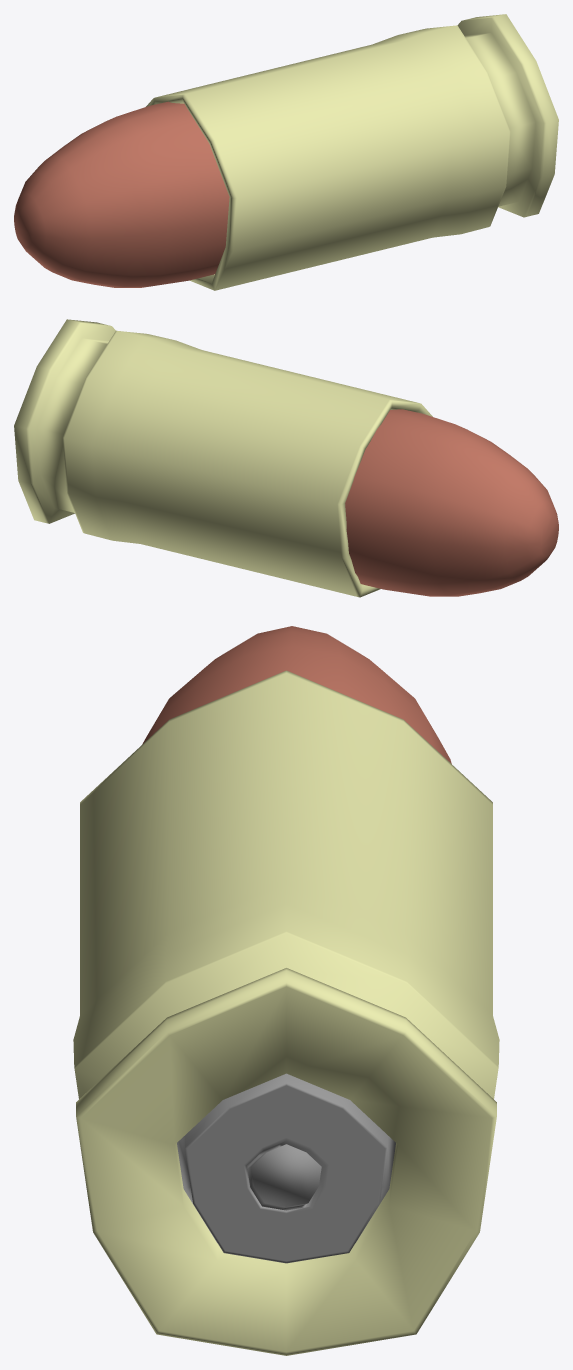
File: BulletPistol.fbx
3 views of the same model, one above another, from view 1: azimuth 30°, elevation 25°; view 2: azimuth 150°, elevation 25°; view 3: azimuth 270°, elevation 25° (orthographic). The views are drawn at different scales.
Parts seen in each view (by area): view 1: Case, Bullet; view 2: Case, Bullet; view 3: Case, Bullet.
Boxes of the visible parts, x1,y1,x2,y2 form: Case: (146,14,558,290); Bullet: (14,101,229,287); Case: (14,319,432,597); Bullet: (345,409,558,596); Case: (73,670,499,1355); Bullet: (142,626,451,763).
Size of the model in its own units: 10.44 by 3.92 by 4.
